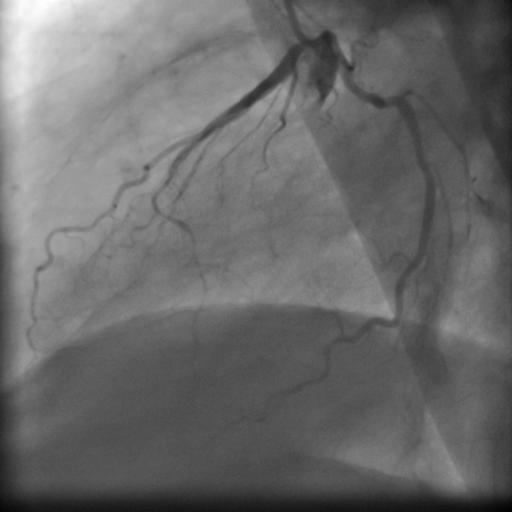Stenosis: (373, 88, 395, 115)
